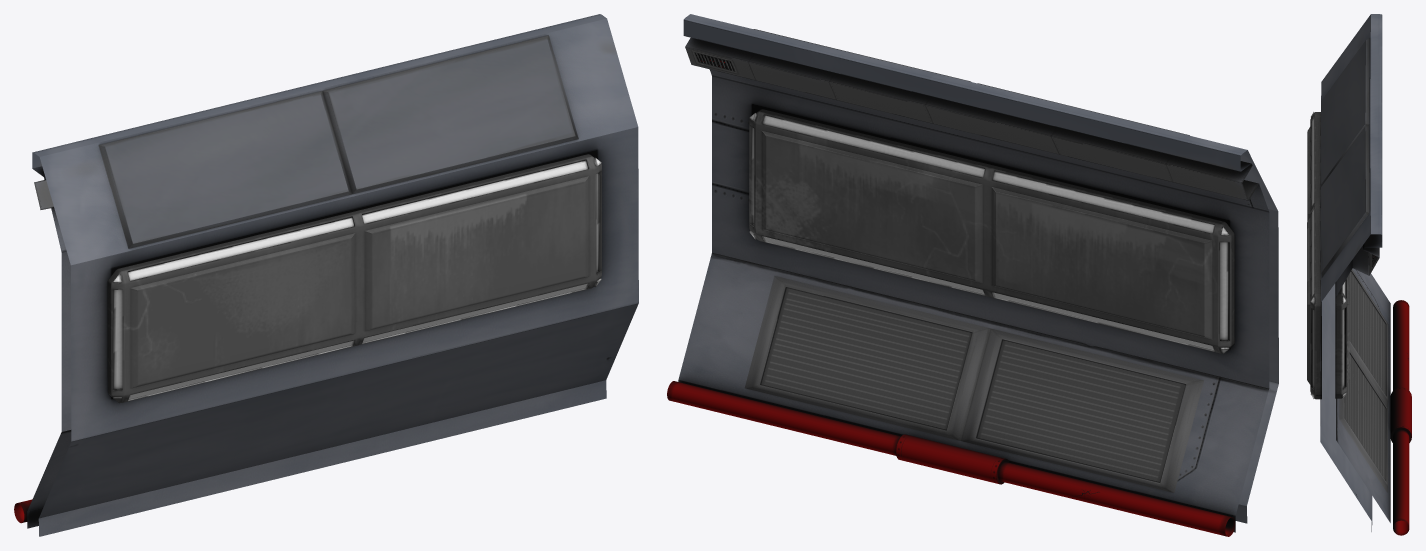
Rendered from space_ship_wall_no_window.glb.
3 views of the same model, side by side, from view 1: azimuth 30°, elevation 25°; view 2: azimuth 150°, elevation 25°; view 3: azimuth 270°, elevation 25° (orthographic). The views are drawn at different scales.
Parts seen in each view (by area): view 1: wall, panel_interior1; view 2: wall, panel_interior, tube; view 3: wall, tube, panel_interior1, panel_interior.
Part boxes in pixels (x1,y1,x2,y2): wall: (27, 14, 638, 536); panel_interior1: (107, 154, 601, 403); wall: (678, 14, 1278, 532); panel_interior: (749, 109, 1234, 353); tube: (667, 381, 1235, 536); wall: (1320, 14, 1390, 531); tube: (1390, 300, 1411, 535); panel_interior1: (1307, 112, 1321, 399); panel_interior: (1335, 273, 1349, 398).
Size of the model in its own units: 12.79 by 8.21 by 2.57.
1 material, 1 textured.
